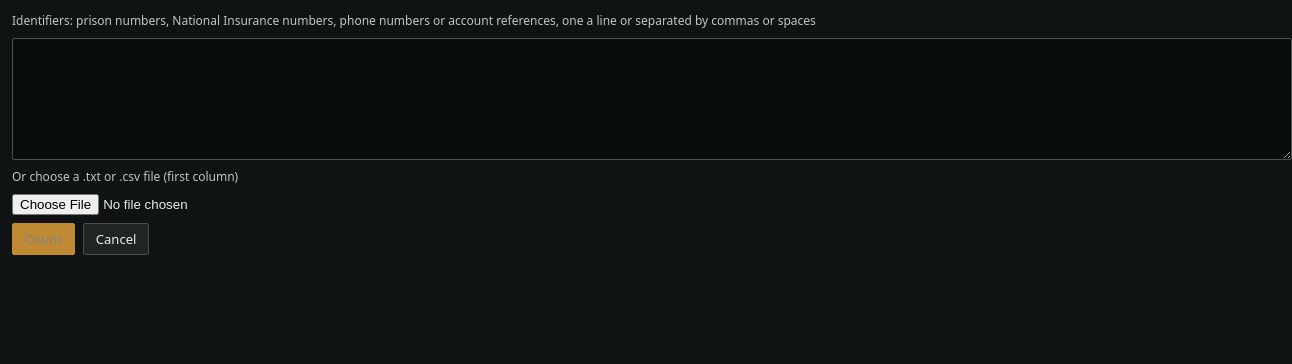
Test case: cancelling › adds nothing, clears the box and the count, and closes
The width and height of the screenshot is (1292, 364).
Type "Z1234ZZ" into the text box labelled "Identifiers" at (652, 99), box left=12, top=38, right=1291, bottom=160
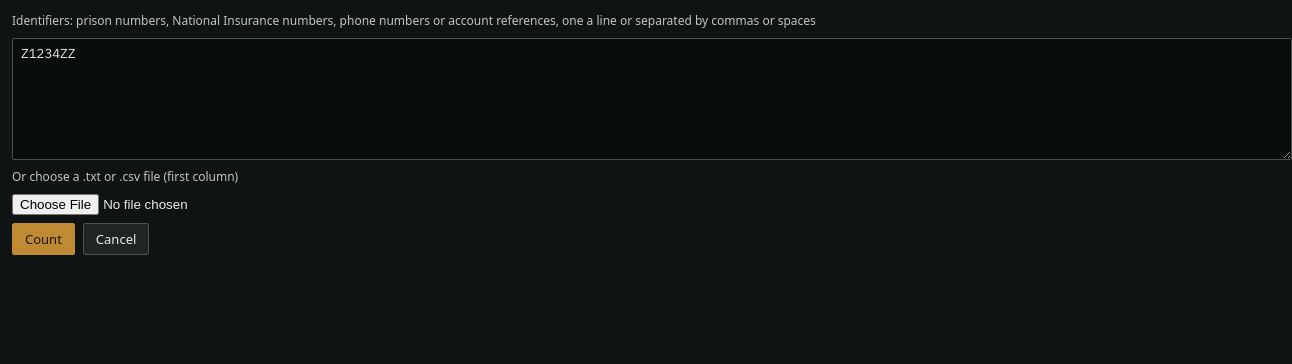
Click the button "Count" at (43, 239), box left=12, top=223, right=75, bottom=255
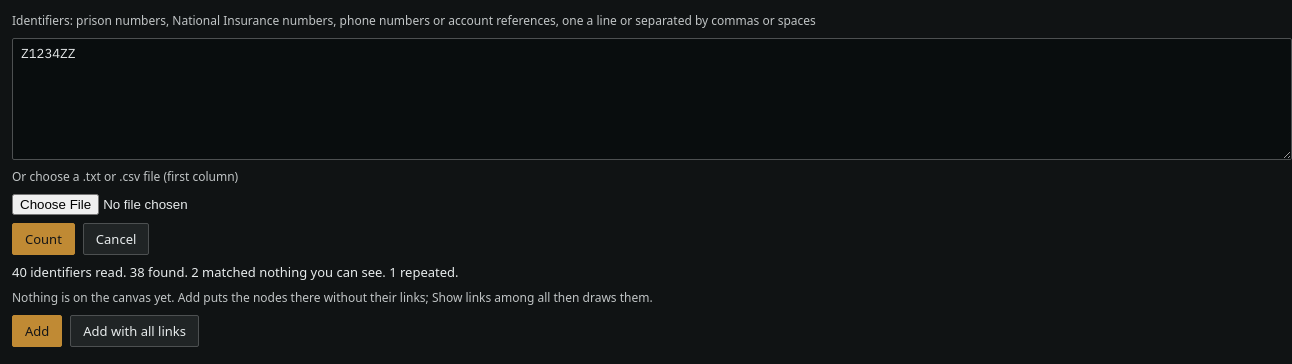
Expected: the message "40 identifiers read. 38 found. 2 matched nothing you can see. 1 repeated." is shown, left=12, top=263, right=459, bottom=281
Click the button "Cancel" at (116, 239), box left=83, top=223, right=149, bottom=255
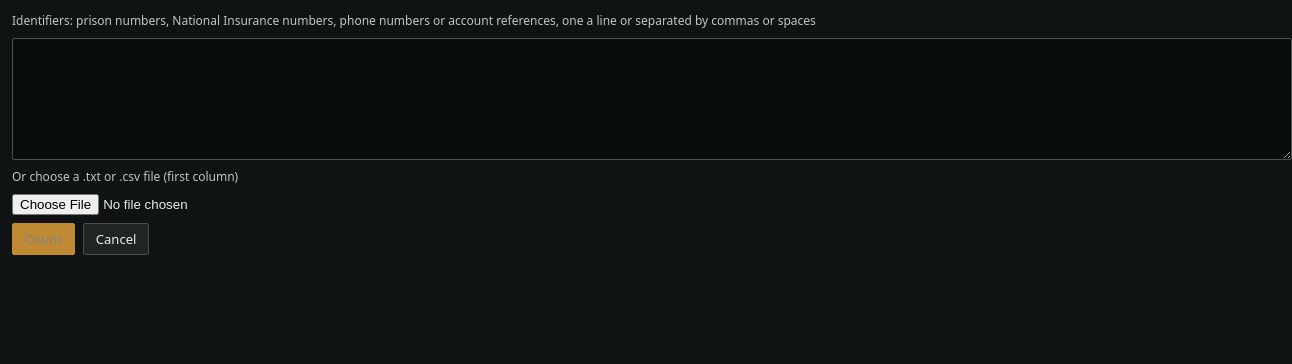
Expected: the text box labelled "Identifiers" is empty, left=12, top=38, right=1291, bottom=160
Expected: the message "40 identifiers read. 38 found. 2 matched nothing you can see. 1 repeated." is gone
